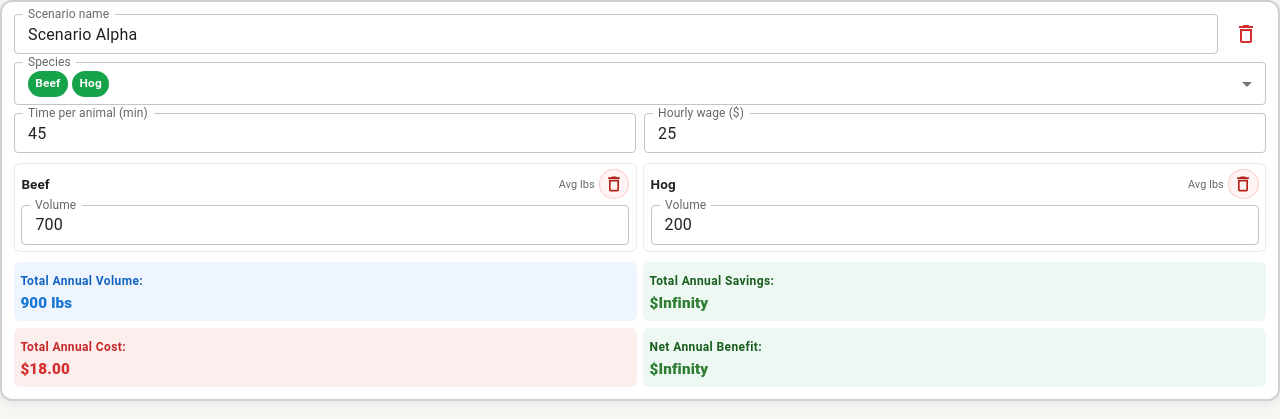
Test: ComparisonScenarioCard - new › reverts name when rename is rejected - new
The image size is (1280, 419).
Replace the text in the field labelled "Scenario name" with "Duplicate Name" at (616, 34), box 14,14 -> 1218,54
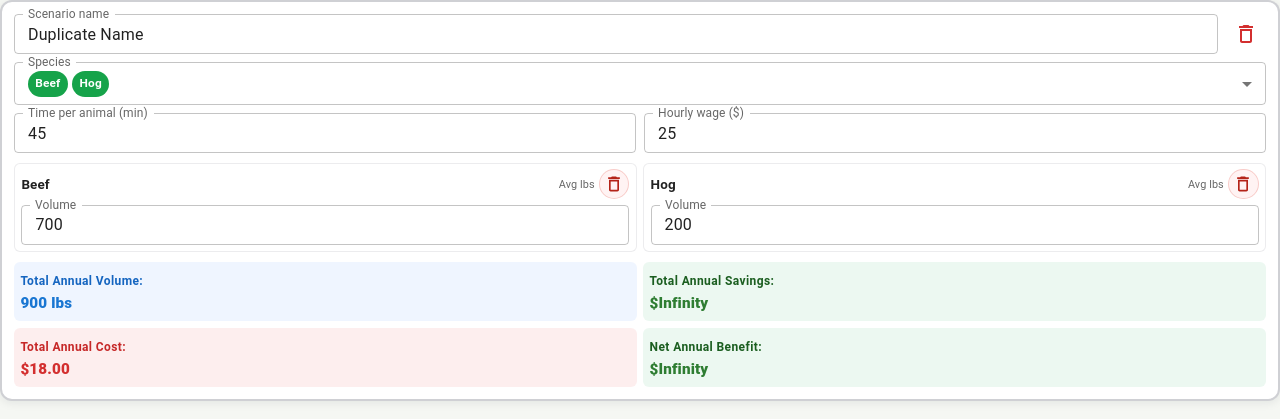
Leave the field labelled "Scenario name", box 14,14 -> 1218,54
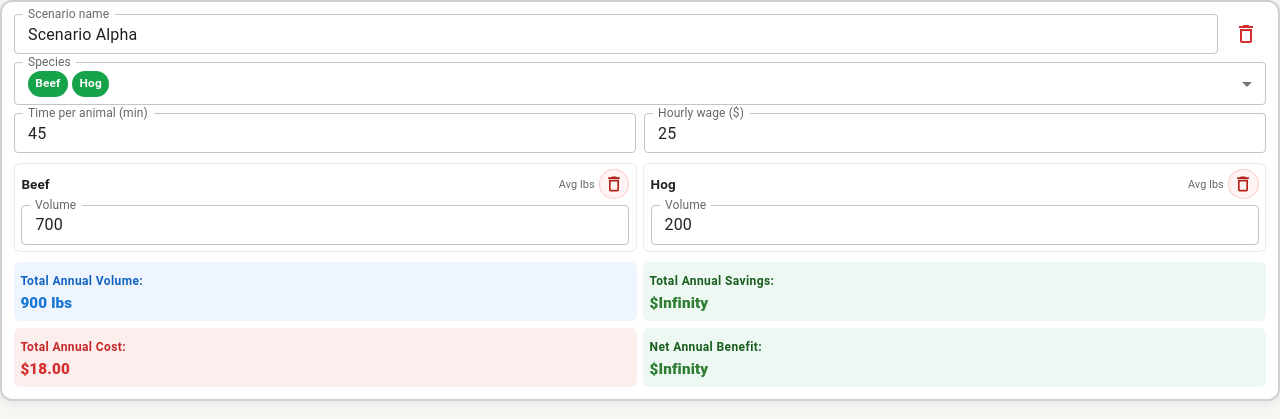
Check: the field labelled "Scenario name" holds "Scenario Alpha", box 14,14 -> 1218,54
